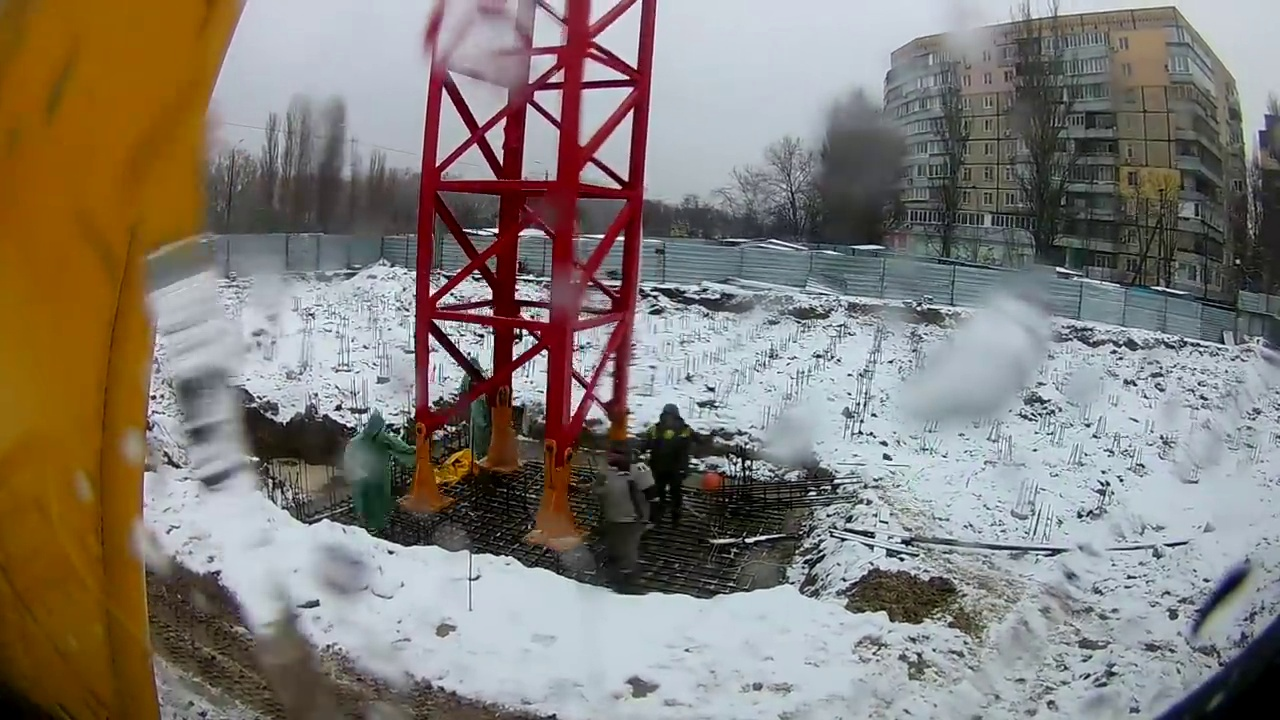helmet: (702, 470, 721, 492)
helmet-off: (361, 410, 387, 447), (656, 407, 682, 438)
person: (341, 407, 414, 537), (644, 402, 698, 530)
